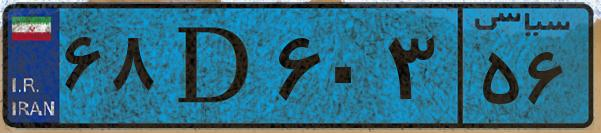0: (330, 28, 385, 110)
3: (385, 28, 445, 110)
5: (475, 38, 525, 113)
6: (270, 28, 330, 110), (57, 26, 110, 100), (525, 38, 570, 115)
8: (110, 28, 158, 98)
D: (158, 12, 270, 120)
